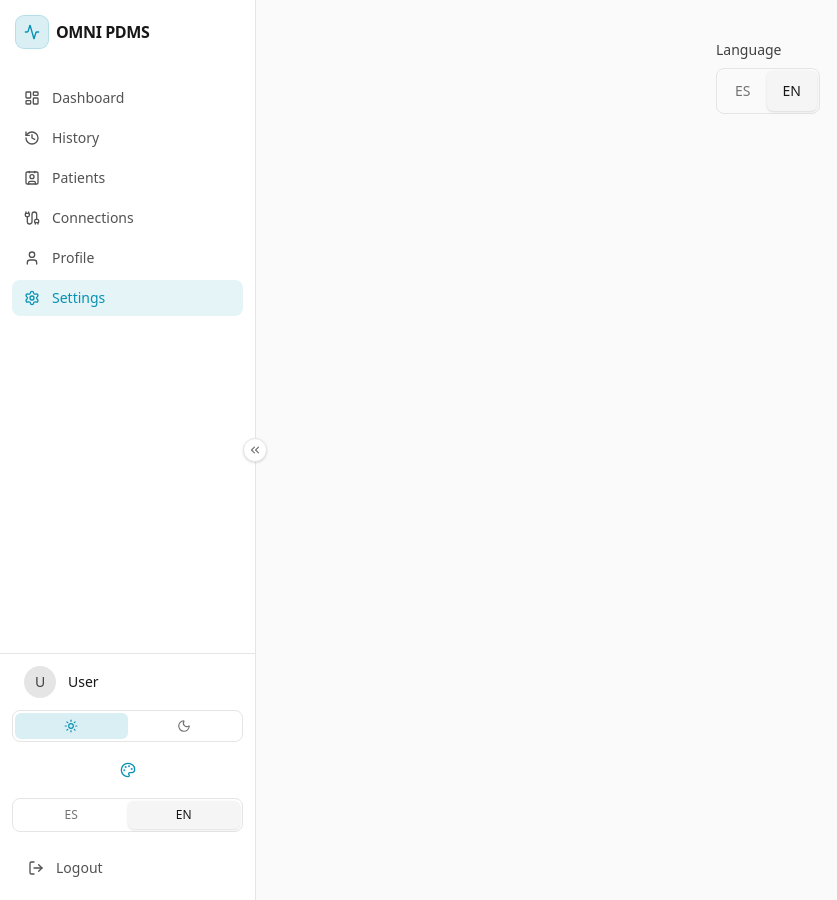
it: AppLayout + Settings cross-surface language sync (R4) › re-renders the AppLayout nav in Spanish when the language is switched from the Settings surface
The width and height of the screenshot is (837, 900).
Check: the link "Dashboard" is shown, box [24,88,124,107]
Check: the link "Settings" is shown, box [12,280,243,316]
# Switch to Spanish from the Settings surface.
Click the button "ES" below "Language": (743, 91) [719,71,766,111]
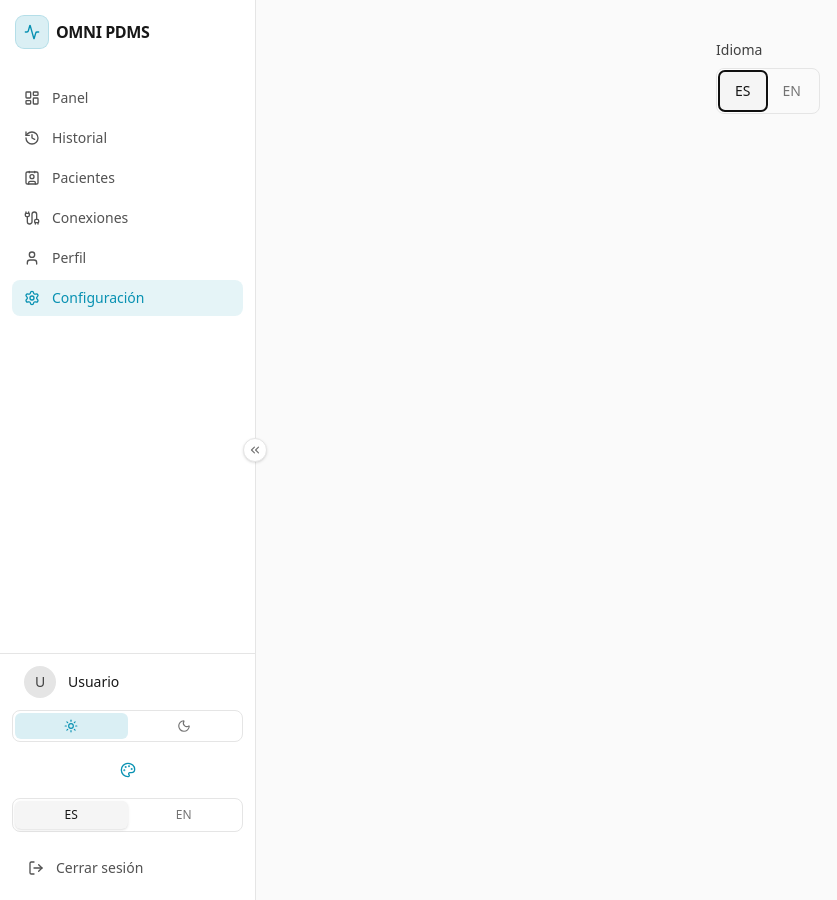
Check: the link "Panel" is shown, box [24,88,88,107]
Check: the link "Configuración" is shown, box [12,280,243,316]
Check: the link "Dashboard" is gone
